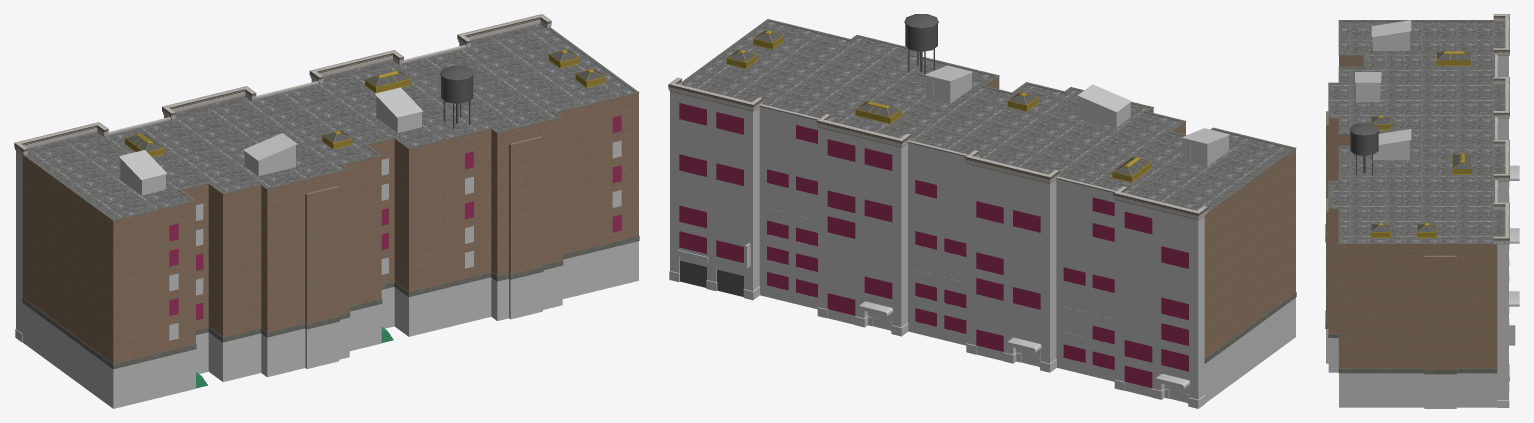
File: mcp_building_28_LOD_1.FBX
3 views of the same model, side by side, from view 1: azimuth 30°, elevation 25°; view 2: azimuth 150°, elevation 25°; view 3: azimuth 270°, elevation 25° (orthographic). The views are drawn at different scales.
Visible parts, largest first — view 1: mcp_building_28_walls, mcp_building_28, mcp_building_28_props_01, mcp_building_28_metal_roof, mcp_building_28_props_03; view 2: mcp_building_28_walls, mcp_building_28, mcp_building_28_props_01, mcp_building_28_metal_roof, mcp_building_28_props_03, mcp_building_28_props_04; view 3: mcp_building_28_walls, mcp_building_28_props_01, mcp_building_28_metal_roof, mcp_building_28_props_03, mcp_building_28.
Boxes of the visible parts, box(x1,y1,x2,y2) form: mcp_building_28_walls: box(14, 14, 639, 408); mcp_building_28: box(15, 115, 621, 342); mcp_building_28_props_01: box(125, 49, 606, 157); mcp_building_28_metal_roof: box(118, 87, 423, 180); mcp_building_28_props_03: box(440, 66, 474, 128); mcp_building_28_walls: box(668, 19, 1296, 402); mcp_building_28: box(669, 103, 1205, 408); mcp_building_28_props_01: box(726, 30, 1152, 182); mcp_building_28_metal_roof: box(924, 65, 1230, 144); mcp_building_28_props_03: box(904, 14, 938, 76); mcp_building_28_props_04: box(680, 260, 743, 296); mcp_building_28_walls: box(1325, 14, 1509, 408); mcp_building_28_props_01: box(1371, 51, 1471, 237); mcp_building_28_metal_roof: box(1355, 20, 1411, 145); mcp_building_28_props_03: box(1349, 123, 1379, 176); mcp_building_28: box(1497, 165, 1519, 407).
Bounding box in the file's own units: 8513 × 3751 × 3098.
